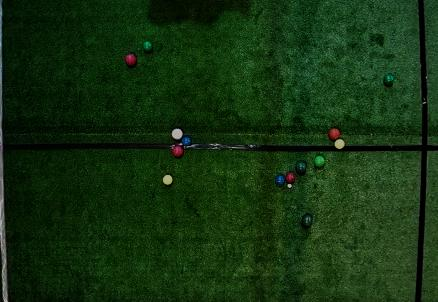blue: (181, 136, 192, 146), (275, 175, 285, 185)
green: (301, 214, 312, 227), (314, 155, 325, 167), (295, 161, 306, 172), (142, 41, 152, 51), (384, 74, 394, 84)
red: (328, 128, 340, 140), (171, 145, 184, 156), (125, 54, 136, 66), (171, 128, 183, 139), (285, 173, 296, 183)
vline: (414, 1, 438, 301), (0, 1, 13, 301)
white: (287, 184, 292, 188)
yellow: (334, 139, 345, 149), (163, 175, 173, 185)
